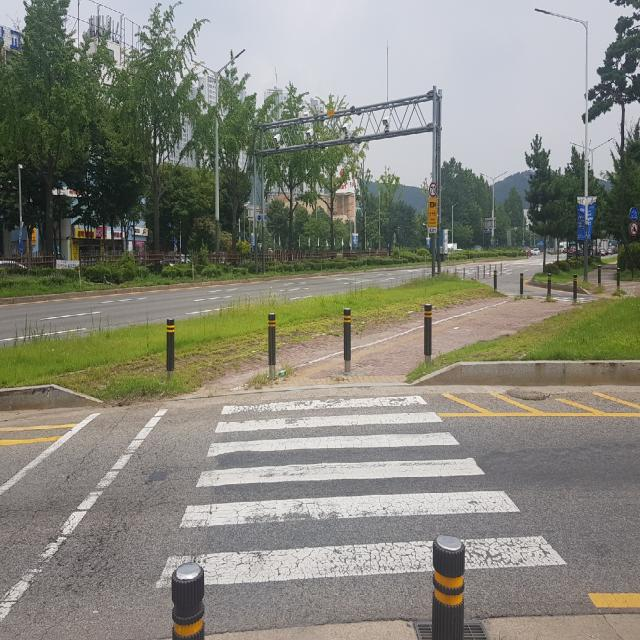횡단보도: (154, 394, 568, 590)
